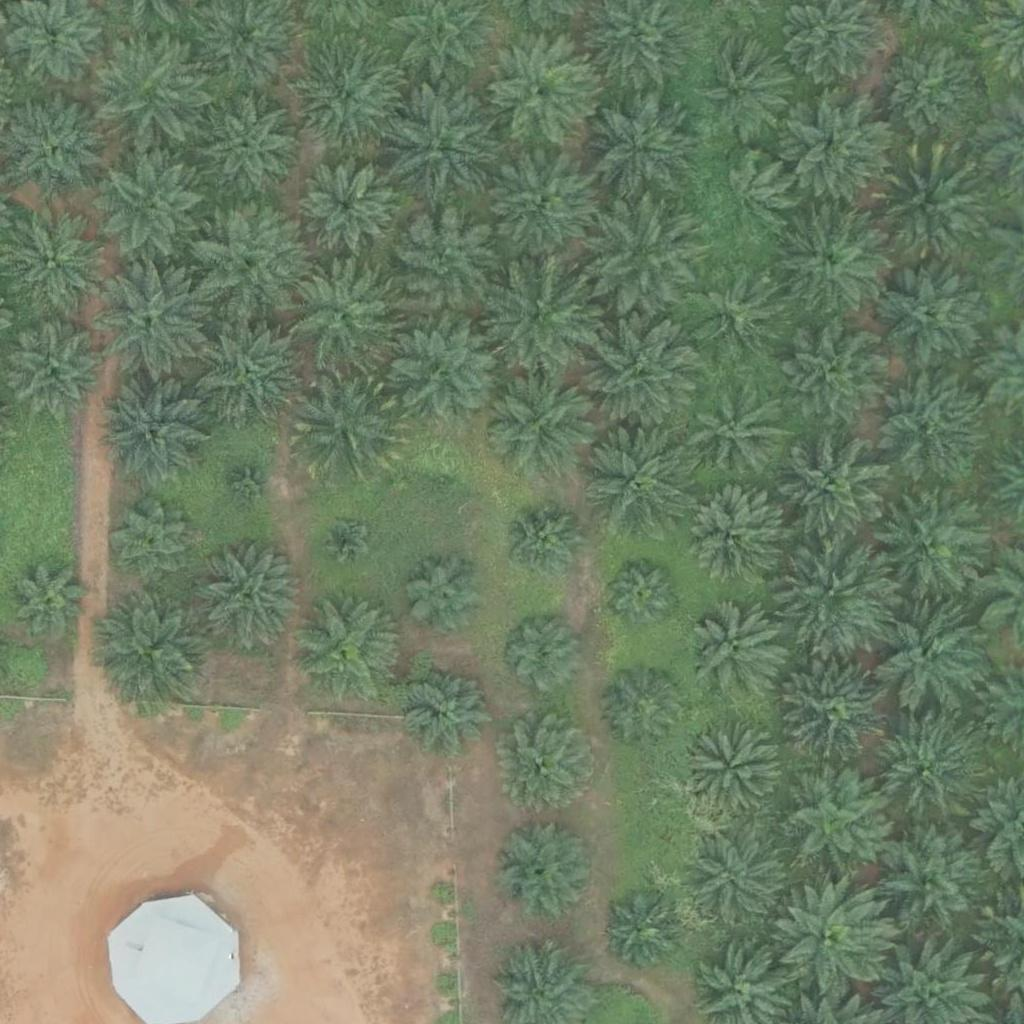Kelapa_Sawit: (581, 417, 694, 531), (484, 148, 597, 262), (481, 258, 594, 372), (384, 87, 497, 201), (292, 42, 405, 156), (876, 257, 989, 370), (872, 367, 985, 480), (781, 91, 894, 204), (772, 204, 885, 317), (778, 321, 891, 434), (486, 368, 599, 481), (388, 208, 501, 321), (96, 152, 209, 265), (96, 265, 209, 378), (99, 380, 212, 493), (99, 593, 212, 706), (780, 539, 893, 652), (781, 656, 894, 769), (877, 487, 990, 600), (874, 601, 987, 714), (868, 712, 981, 825), (876, 827, 989, 940), (778, 432, 890, 546), (585, 198, 697, 312), (587, 315, 699, 429), (291, 593, 403, 707), (290, 369, 402, 482), (874, 37, 986, 150), (873, 152, 985, 265), (583, 92, 695, 205), (483, 35, 595, 148), (393, 315, 505, 428), (288, 259, 400, 372), (188, 205, 300, 318), (192, 312, 304, 425), (91, 34, 203, 147), (192, 543, 304, 656), (776, 765, 888, 878), (775, 886, 887, 999), (693, 38, 793, 139), (297, 156, 397, 257), (199, 97, 299, 198), (5, 94, 105, 195), (6, 321, 106, 422), (681, 489, 781, 590), (687, 601, 787, 702), (682, 719, 782, 820), (685, 265, 785, 365), (689, 384, 789, 484), (499, 714, 599, 814), (494, 821, 594, 921), (692, 833, 792, 933), (702, 155, 790, 243), (408, 666, 496, 754), (111, 501, 198, 589), (402, 551, 489, 639), (501, 501, 588, 589), (498, 610, 585, 698), (600, 665, 687, 753), (605, 893, 680, 969), (10, 562, 85, 637), (603, 557, 678, 632), (226, 459, 276, 510), (320, 515, 370, 566), (417, 452, 467, 502)
